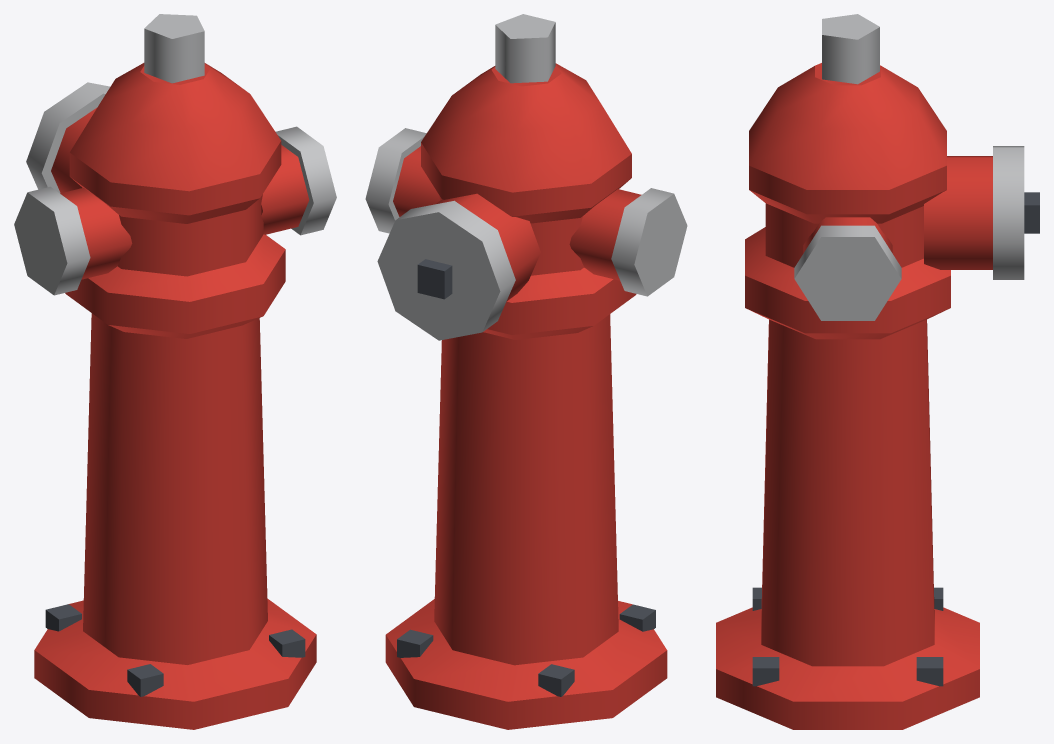
The model's file is prop_hydrant.glb.
3 renders of one model, left to right at view 1: azimuth 30°, elevation 25°; view 2: azimuth 150°, elevation 25°; view 3: azimuth 270°, elevation 25°, orthographic.
Parts seen in each view (by area): view 1: prop_hydrant__mesh; view 2: prop_hydrant__mesh; view 3: prop_hydrant__mesh.
Part boxes in pixels (x1,y1,x2,y2): prop_hydrant__mesh: (14,14,336,729); prop_hydrant__mesh: (365,14,687,729); prop_hydrant__mesh: (716,14,1039,729).
Size of the model in its own units: 0.35 by 0.8 by 0.3628.
Materials: 1 (1 with a texture image).
